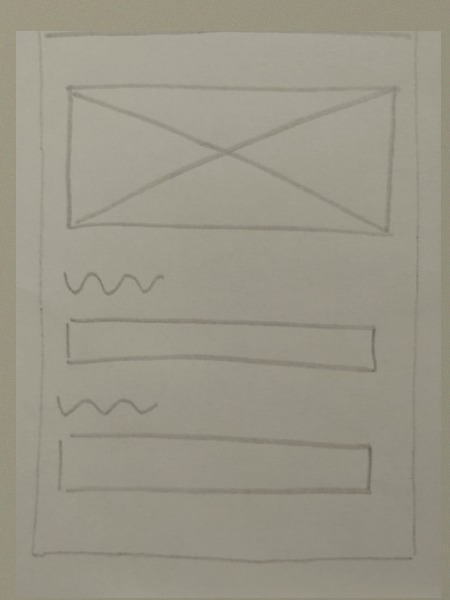image: (60, 78, 404, 240)
text: (53, 383, 164, 422), (57, 263, 167, 302)
text_input: (52, 429, 376, 500), (60, 314, 385, 377)
